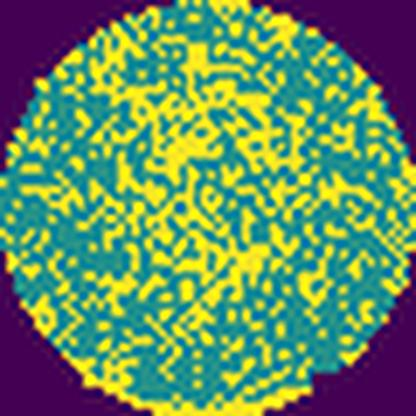Random: (0, 0, 381, 380)
